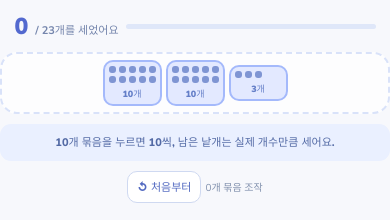
it: 학생이 조작하면 실제 수학 모형의 값과 그림이 변한다 › 10개 묶음은 실제 개수대로 더하고 마지막 3개 묶음도 반영한다
Click the button named "1번째 10개 묶음": (132, 83) [102, 60, 162, 106]
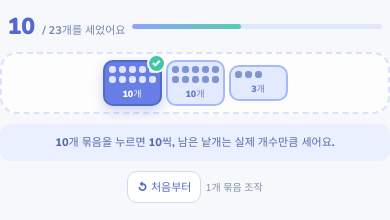
Click the button named "3번째 3개 묶음": (258, 83) [228, 65, 288, 101]
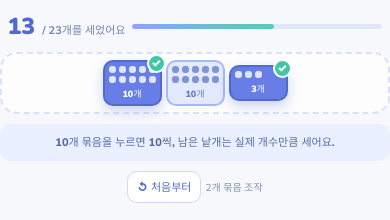
Now the text "13" is shown, box [8, 12, 35, 42]
